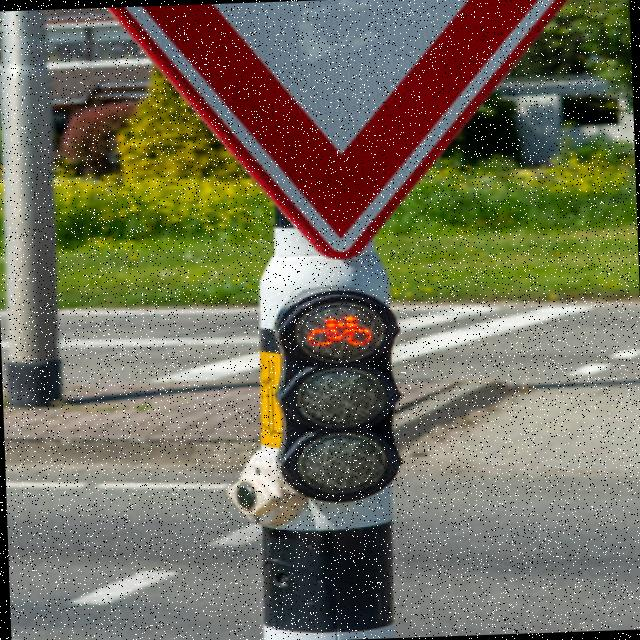give_way: (0, 0, 638, 270)
